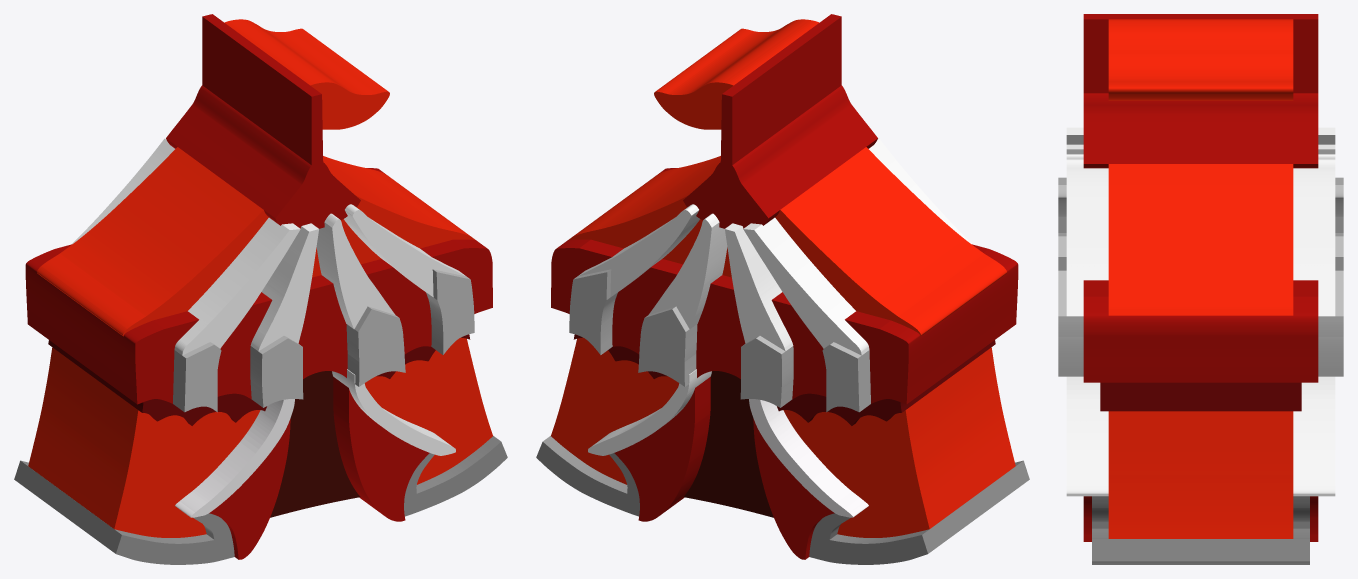
3 renders of one model, left to right at view 1: azimuth 30°, elevation 25°; view 2: azimuth 150°, elevation 25°; view 3: azimuth 270°, elevation 25°, orthographic. The views are drawn at different scales.
Visible parts, largest first — view 1: U+1F3AA_layer01_obj00, U+1F3AA_layer04_obj03, U+1F3AA_layer01_obj03, U+1F3AA_layer04_obj02, U+1F3AA_layer04_obj04, U+1F3AA_layer01_obj02, U+1F3AA_layer06_obj03, U+1F3AA_layer00_obj00, U+1F3AA_layer01_obj01, U+1F3AA_layer04_obj01, U+1F3AA_layer03_obj01, U+1F3AA_layer05_obj00 (+11 smaller); view 2: U+1F3AA_layer01_obj00, U+1F3AA_layer04_obj03, U+1F3AA_layer01_obj03, U+1F3AA_layer04_obj02, U+1F3AA_layer04_obj04, U+1F3AA_layer01_obj02, U+1F3AA_layer06_obj03, U+1F3AA_layer00_obj00, U+1F3AA_layer01_obj01, U+1F3AA_layer04_obj01, U+1F3AA_layer03_obj01, U+1F3AA_layer05_obj00 (+11 smaller); view 3: U+1F3AA_layer01_obj00, U+1F3AA_layer01_obj02, U+1F3AA_layer04_obj03, U+1F3AA_layer04_obj02, U+1F3AA_layer01_obj01, U+1F3AA_layer06_obj02, U+1F3AA_layer06_obj00, U+1F3AA_layer03_obj00, U+1F3AA_layer02_obj01, U+1F3AA_layer04_obj04, U+1F3AA_layer07_obj02, U+1F3AA_layer07_obj00 (+4 smaller).
Boxes of the visible parts, left/top/right/bottom form: U+1F3AA_layer01_obj00: left=37, top=147, right=475, bottom=336; U+1F3AA_layer04_obj03: left=25, top=168, right=492, bottom=404; U+1F3AA_layer01_obj03: left=28, top=347, right=260, bottom=537; U+1F3AA_layer04_obj02: left=166, top=85, right=360, bottom=228; U+1F3AA_layer04_obj04: left=202, top=14, right=323, bottom=167; U+1F3AA_layer01_obj02: left=364, top=337, right=492, bottom=484; U+1F3AA_layer06_obj03: left=72, top=138, right=300, bottom=355; U+1F3AA_layer00_obj00: left=270, top=371, right=360, bottom=517; U+1F3AA_layer01_obj01: left=224, top=19, right=389, bottom=129; U+1F3AA_layer04_obj01: left=333, top=377, right=429, bottom=521; U+1F3AA_layer03_obj01: left=14, top=460, right=234, bottom=564; U+1F3AA_layer05_obj00: left=175, top=399, right=294, bottom=517; U+1F3AA_layer01_obj00: left=568, top=147, right=1006, bottom=336; U+1F3AA_layer04_obj03: left=551, top=168, right=1018, bottom=404; U+1F3AA_layer01_obj03: left=783, top=347, right=1015, bottom=537; U+1F3AA_layer04_obj02: left=683, top=85, right=877, bottom=228; U+1F3AA_layer04_obj04: left=720, top=14, right=841, bottom=169; U+1F3AA_layer01_obj02: left=551, top=337, right=679, bottom=484; U+1F3AA_layer06_obj03: left=743, top=138, right=971, bottom=355; U+1F3AA_layer00_obj00: left=683, top=371, right=773, bottom=517; U+1F3AA_layer01_obj01: left=654, top=19, right=819, bottom=129; U+1F3AA_layer04_obj01: left=614, top=377, right=710, bottom=521; U+1F3AA_layer03_obj01: left=809, top=460, right=1029, bottom=564; U+1F3AA_layer05_obj00: left=749, top=399, right=868, bottom=517; U+1F3AA_layer01_obj00: left=1108, top=164, right=1293, bottom=315; U+1F3AA_layer01_obj02: left=1108, top=411, right=1293, bottom=538; U+1F3AA_layer04_obj03: left=1083, top=280, right=1318, bottom=382; U+1F3AA_layer04_obj02: left=1083, top=93, right=1318, bottom=168; U+1F3AA_layer01_obj01: left=1108, top=19, right=1293, bottom=100; U+1F3AA_layer06_obj02: left=1066, top=159, right=1335, bottom=316; U+1F3AA_layer06_obj00: left=1066, top=376, right=1335, bottom=496; U+1F3AA_layer03_obj00: left=1092, top=496, right=1309, bottom=564; U+1F3AA_layer02_obj01: left=1100, top=382, right=1301, bottom=411; U+1F3AA_layer04_obj04: left=1083, top=14, right=1318, bottom=93; U+1F3AA_layer07_obj02: left=1058, top=282, right=1343, bottom=376; U+1F3AA_layer07_obj00: left=1058, top=177, right=1343, bottom=232.
Bounding box in the file's own units: 0.2893 × 0.3155 × 0.17.
